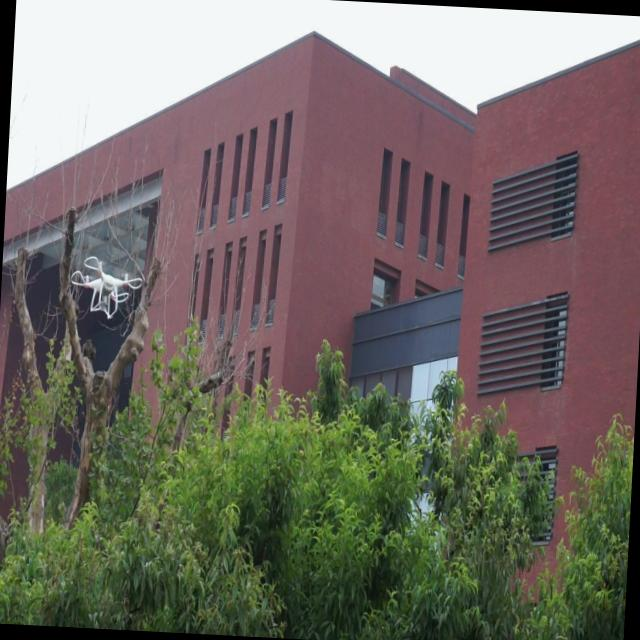drone: (68, 252, 145, 326)
